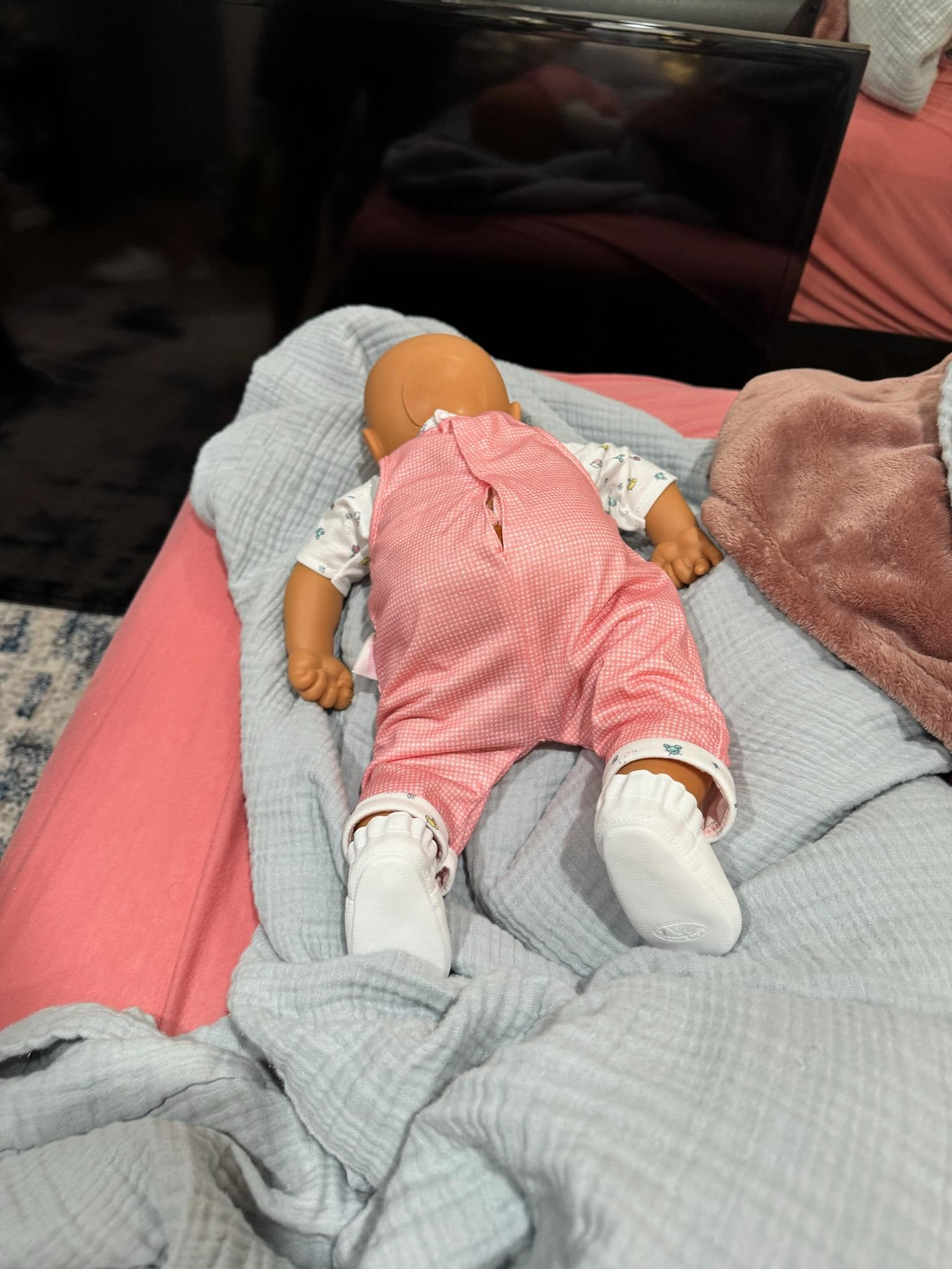baby: (273, 324, 769, 1004)
